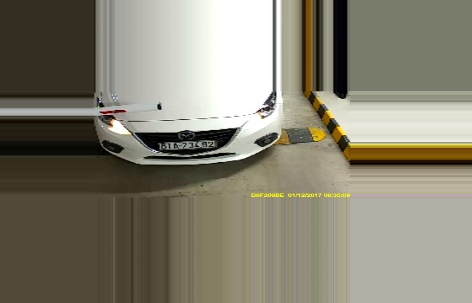plate: (155, 137, 217, 152)
